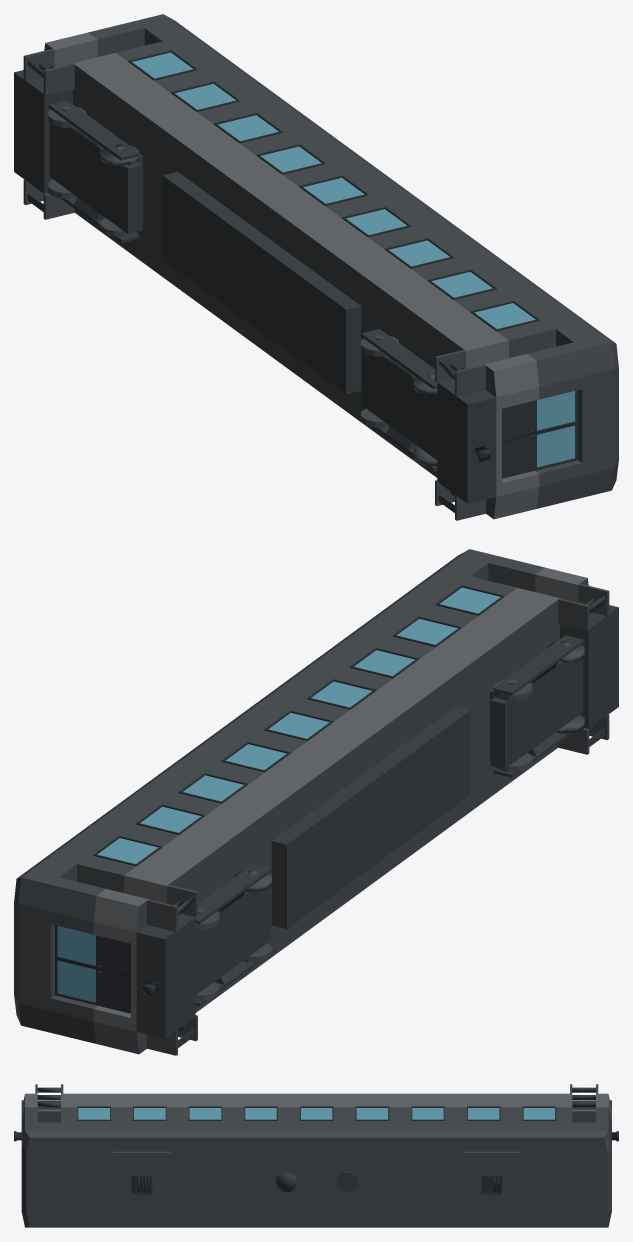
File: Train2Broke.fbx
3 views of the same model, one above another, from view 1: azimuth 30°, elevation 25°; view 2: azimuth 150°, elevation 25°; view 3: azimuth 270°, elevation 25° (orthographic). The views are drawn at different scales.
Parts seen in each view (by area): view 1: Train2_fracturepart19_2, Train2_fracturepart30, Train2_fracturepart24, Train2_fracturepart4, Train2_fracturepart11, Train2_fracturepart9, Train2_fracturepart21_2, Train2_fracturepart27_2, Train2_fracturepart15, Train2_fracturepart1, Train2_fracturepart18, Train2_fracturepart25 (+24 smaller); view 2: Train2_fracturepart2, Train2_fracturepart15, Train2_fracturepart19_2, Train2_fracturepart4, Train2_fracturepart11, Train2_fracturepart12, Train2_fracturepart9, Train2_fracturepart30, Train2_fracturepart21_2, Train2_fracturepart27_2, Train2_fracturepart1, Train2_fracturepart25 (+25 smaller); view 3: Train2_fracturepart30, Train2_fracturepart5, Train2_fracturepart10, Train2_fracturepart29, Train2_fracturepart1, Train2_fracturepart2, Train2_fracturepart22, Train2_fracturepart4, Train2_fracturepart23, Train2_fracturepart13, Train2_fracturepart28, Train2_fracturepart7 (+14 smaller).
Part boxes in pixels (box(x1,y1,x2,y2)): Train2_fracturepart19_2: box(418, 316, 525, 503); Train2_fracturepart30: box(475, 286, 618, 433); Train2_fracturepart24: box(436, 414, 616, 520); Train2_fracturepart4: box(380, 261, 540, 463); Train2_fracturepart11: box(64, 51, 206, 145); Train2_fracturepart9: box(230, 174, 405, 232); Train2_fracturepart21_2: box(169, 180, 236, 312); Train2_fracturepart27_2: box(243, 251, 330, 354); Train2_fracturepart15: box(14, 34, 96, 154); Train2_fracturepart1: box(244, 125, 402, 187); Train2_fracturepart18: box(133, 110, 205, 214); Train2_fracturepart25: box(332, 249, 422, 356); Train2_fracturepart2: box(14, 834, 122, 991); Train2_fracturepart15: box(75, 887, 197, 999); Train2_fracturepart19_2: box(485, 571, 618, 780); Train2_fracturepart4: box(358, 605, 518, 808); Train2_fracturepart11: box(112, 812, 233, 903); Train2_fracturepart12: box(58, 974, 187, 1055); Train2_fracturepart9: box(246, 695, 371, 796); Train2_fracturepart30: box(384, 549, 559, 611); Train2_fracturepart21_2: box(284, 797, 359, 923); Train2_fracturepart27_2: box(367, 728, 445, 868); Train2_fracturepart1: box(170, 709, 307, 778); Train2_fracturepart25: box(394, 651, 487, 784); Train2_fracturepart30: box(21, 1102, 128, 1192); Train2_fracturepart5: box(157, 1106, 256, 1215); Train2_fracturepart10: box(238, 1116, 336, 1227); Train2_fracturepart29: box(346, 1120, 468, 1203); Train2_fracturepart1: box(305, 1098, 417, 1199); Train2_fracturepart2: box(529, 1105, 611, 1200); Train2_fracturepart22: box(21, 1187, 159, 1227); Train2_fracturepart4: box(104, 1093, 192, 1223); Train2_fracturepart23: box(518, 1159, 611, 1227); Train2_fracturepart13: box(425, 1153, 506, 1227); Train2_fracturepart28: box(454, 1109, 550, 1160); Train2_fracturepart7: box(159, 1188, 279, 1227).
Bounding box in the file's own units: 427 × 356 × 1992.
Materials: 1 (1 with a texture image).
